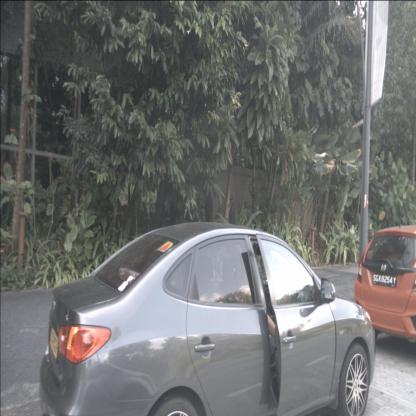vehicle-car: (39, 221, 377, 415), (353, 225, 416, 358)
